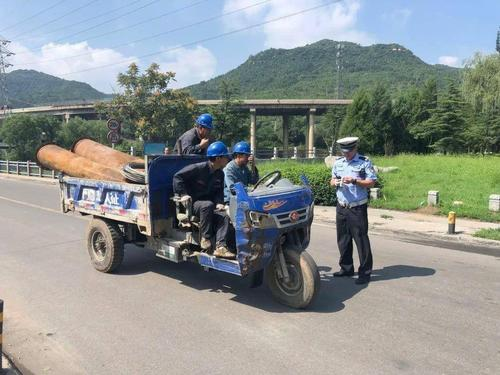driver: (229, 146, 272, 241)
overloading: (45, 115, 321, 303)
passenger: (180, 147, 229, 243), (180, 115, 213, 153)
